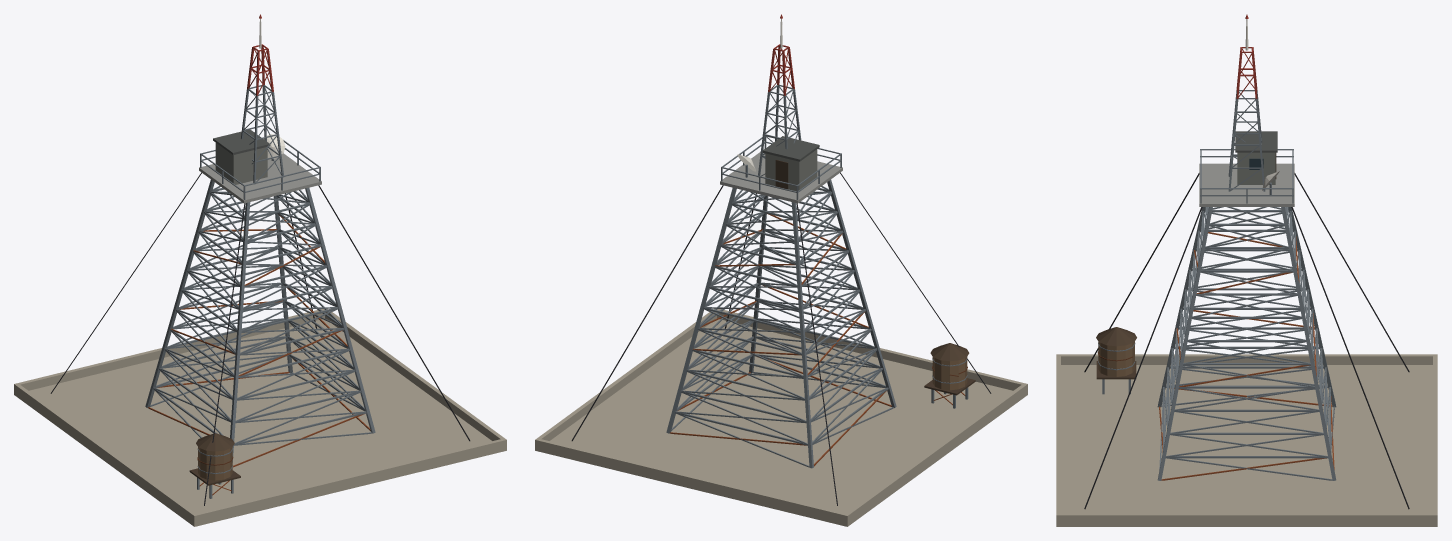
The model's file is tw_landmark_mast.glb.
3 views of the same model, side by side, from view 1: azimuth 30°, elevation 25°; view 2: azimuth 150°, elevation 25°; view 3: azimuth 270°, elevation 25° (orthographic). The views are drawn at different scales.
Parts seen in each view (by area): view 1: tw_landmark_mast, radio_hut; view 2: tw_landmark_mast, radio_hut; view 3: tw_landmark_mast, radio_hut.
Boxes of the visible parts, x1=… form: tw_landmark_mast: x1=14, y1=14, x2=506, y2=526; radio_hut: x1=213, y1=129, x2=270, y2=184; tw_landmark_mast: x1=535, y1=14, x2=1027, y2=526; radio_hut: x1=762, y1=136, x2=819, y2=191; tw_landmark_mast: x1=1056, y1=14, x2=1437, y2=526; radio_hut: x1=1235, y1=131, x2=1277, y2=184.
Bounding box in the file's own units: 24 × 30 × 24.
3 materials, 3 textured.
